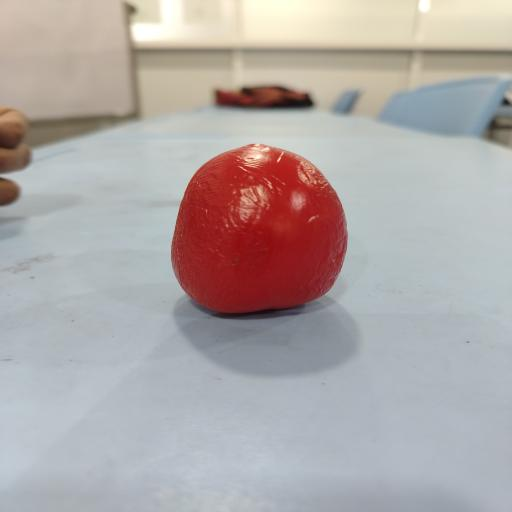spoiled: (172, 144, 347, 313)
